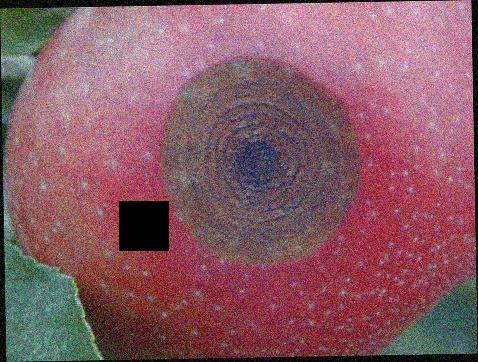rotten apple: (3, 4, 475, 358)
